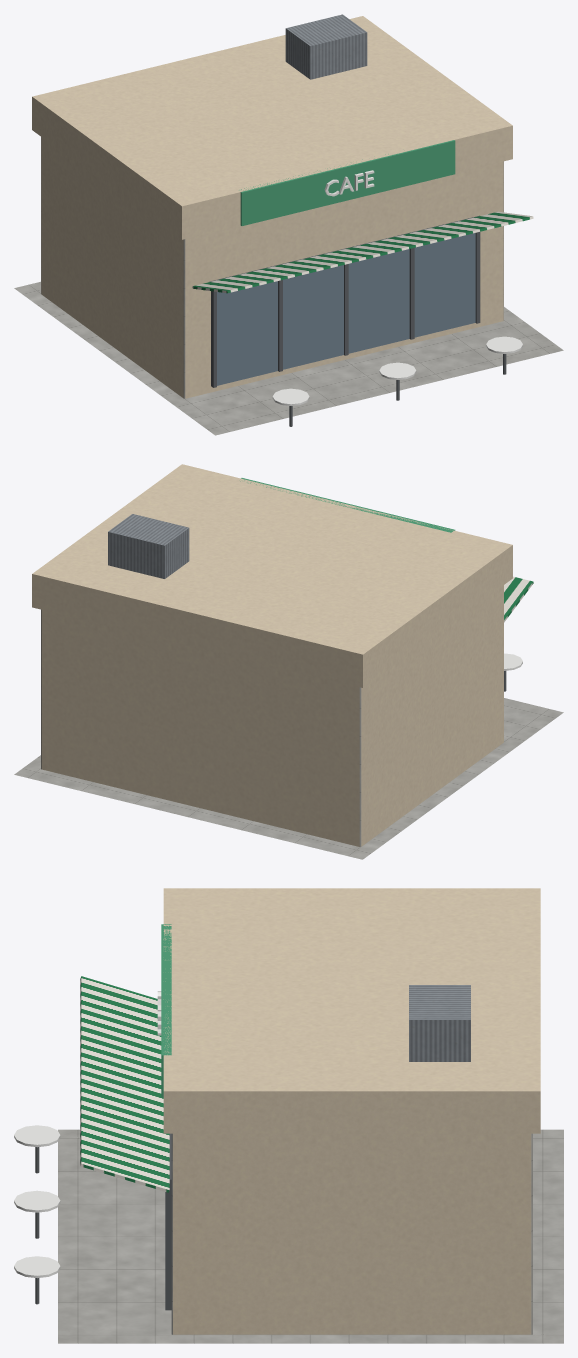
The model's file is shop_1.gltf.
The picture shows the model from 3 angles, top to bottom: view 1: azimuth 30°, elevation 25°; view 2: azimuth 150°, elevation 25°; view 3: azimuth 270°, elevation 25°; orthographic projection. The views are drawn at different scales.
Visible parts, largest first — view 1: shop_1; view 2: shop_1; view 3: shop_1.
Boxes of the visible parts, box(x1,y1,x2,y2) form: shop_1: box(14, 14, 563, 435); shop_1: box(14, 464, 563, 859); shop_1: box(14, 888, 563, 1343).
Bounding box in the file's own units: 1.96 × 1.24 × 2.13.
9 materials, 4 textured.
